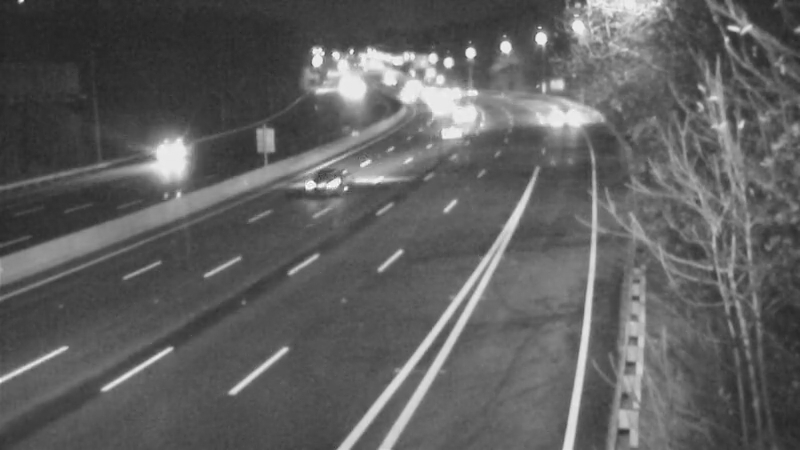vehicle: (288, 139, 368, 219), (152, 117, 232, 197), (412, 76, 462, 126), (407, 84, 457, 134), (533, 87, 583, 137), (434, 93, 484, 143), (419, 110, 469, 160)
